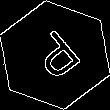P_SE: (23, 23, 87, 87)
